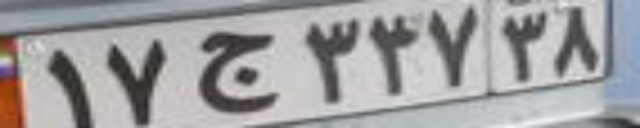1: (44, 48, 98, 127)
3: (303, 17, 361, 104), (366, 13, 421, 95), (500, 9, 549, 82)
7: (107, 36, 169, 123), (424, 3, 478, 88)
8: (551, 5, 600, 79)
jim: (196, 30, 280, 113)
